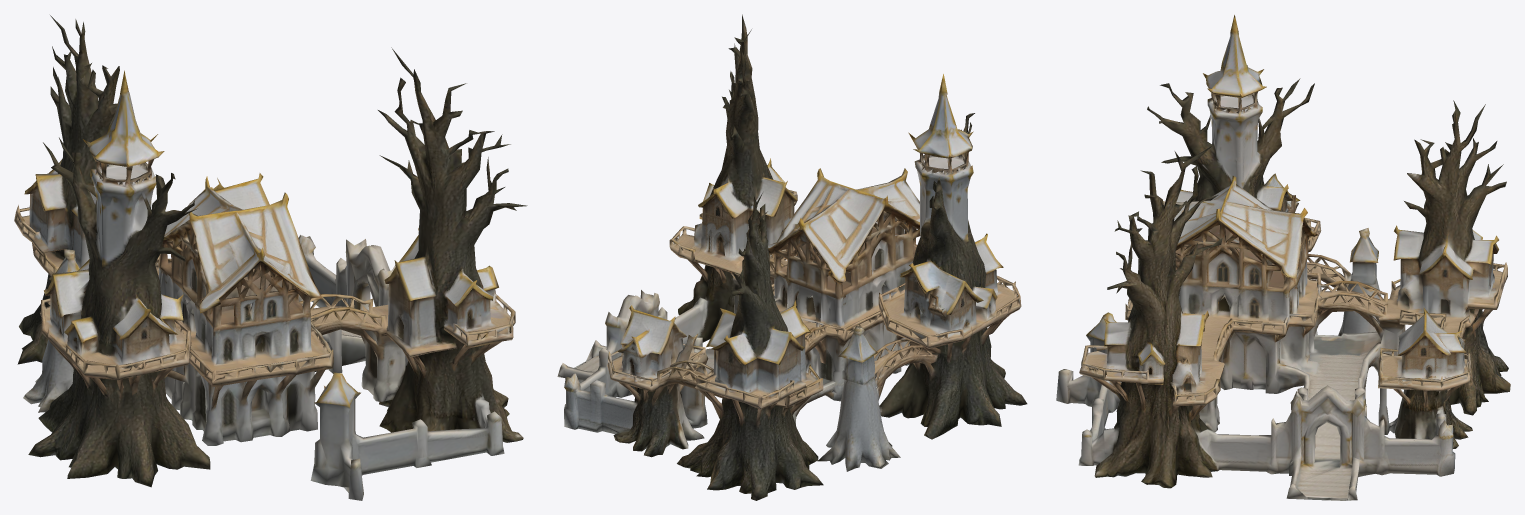
Rendered from elf-2.glb.
3 views of the same model, side by side, from view 1: azimuth 30°, elevation 25°; view 2: azimuth 150°, elevation 25°; view 3: azimuth 270°, elevation 25° (orthographic). The views are drawn at different scales.
Parts seen in each view (by area): view 1: tripo_node_f34e9882-1c81-4e86-933c-db71bca3e8b7; view 2: tripo_node_f34e9882-1c81-4e86-933c-db71bca3e8b7; view 3: tripo_node_f34e9882-1c81-4e86-933c-db71bca3e8b7.
Part boxes in pixels (x1,y1,x2,y2): tripo_node_f34e9882-1c81-4e86-933c-db71bca3e8b7: [14, 15, 527, 500]; tripo_node_f34e9882-1c81-4e86-933c-db71bca3e8b7: [557, 14, 1027, 500]; tripo_node_f34e9882-1c81-4e86-933c-db71bca3e8b7: [1056, 15, 1510, 500].
Bounding box in the file's own units: 0.9847 × 0.8081 × 1.
Materials: 1 (1 with a texture image).
